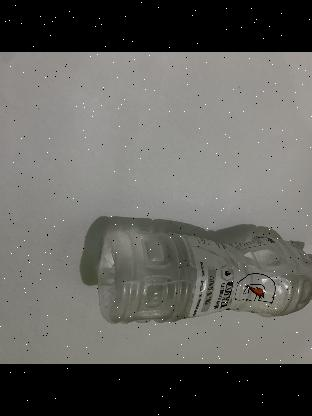Plastic Bottle: (97, 231, 312, 324)
